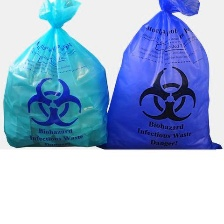plastic_bag: (90, 0, 224, 154), (0, 0, 113, 150)
